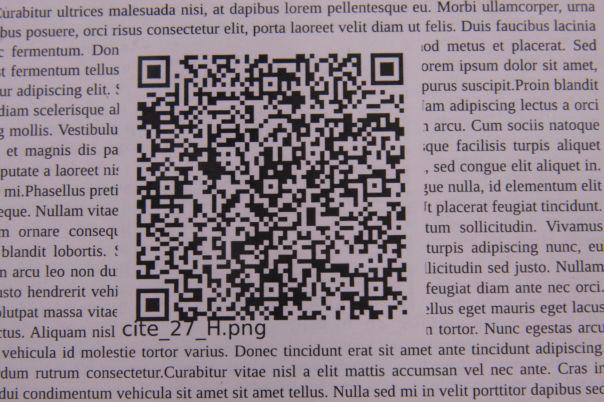Finder pattern: (133, 53, 176, 91), (133, 287, 174, 325), (369, 51, 407, 89)
